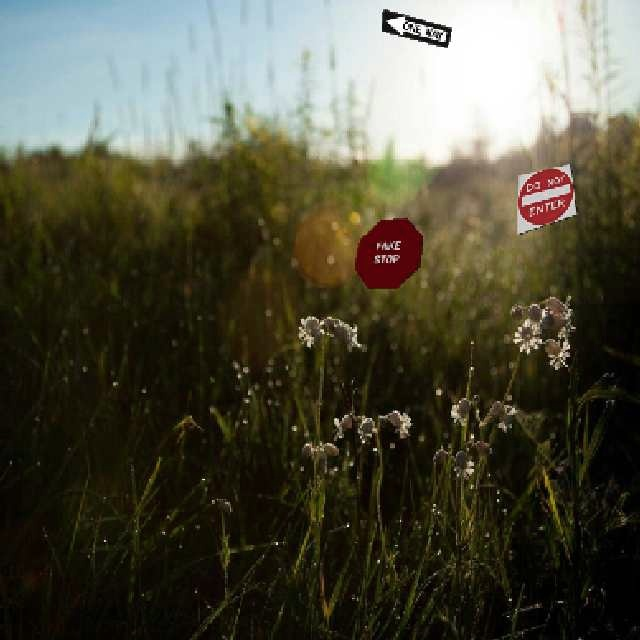DO_NOT_ENTER: (515, 162, 576, 234)
FAKE_STOP: (352, 216, 422, 288)
ONE_WAY_ left: (379, 7, 451, 47)
